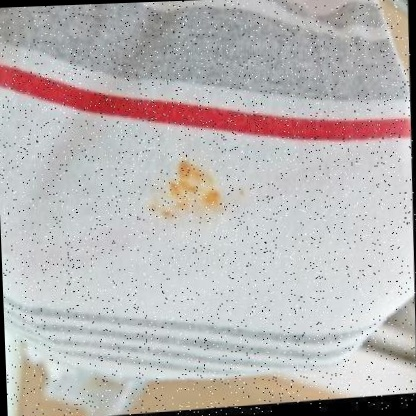kimchi: (142, 163, 226, 225)
